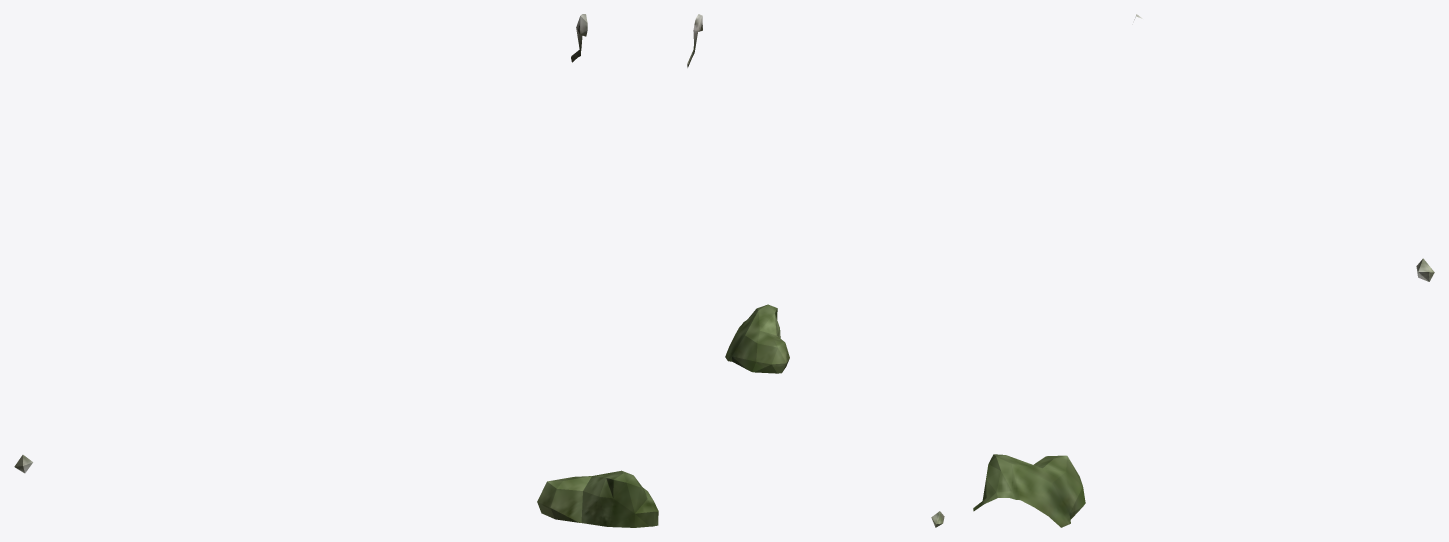
3 views of the same model, side by side, from view 1: azimuth 30°, elevation 25°; view 2: azimuth 150°, elevation 25°; view 3: azimuth 270°, elevation 25° (orthographic). The views are drawn at different scales.
Bounding box in the file's own units: 2.18 × 2.17 × 1.78.
1 material, 1 textured.
